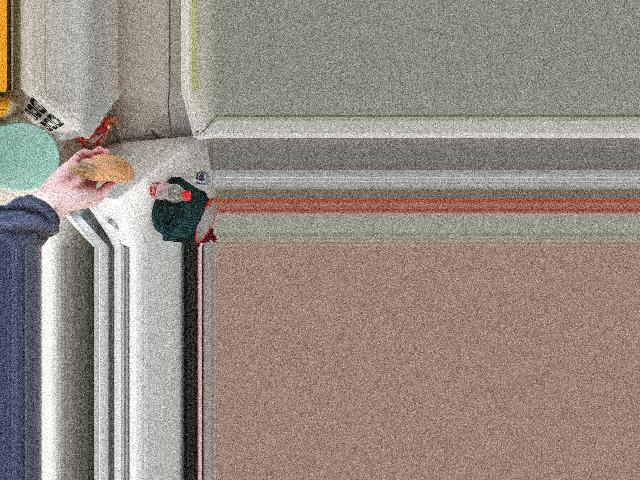sweet_potato: (80, 156, 148, 182)
